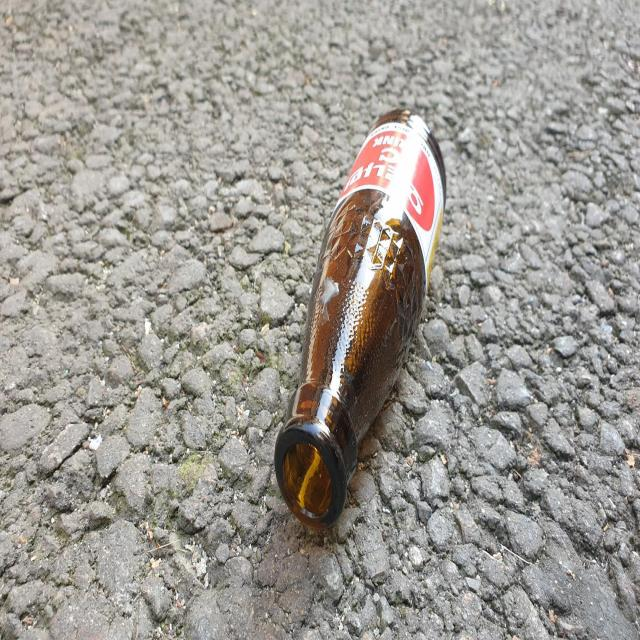glass: (275, 108, 447, 529)
